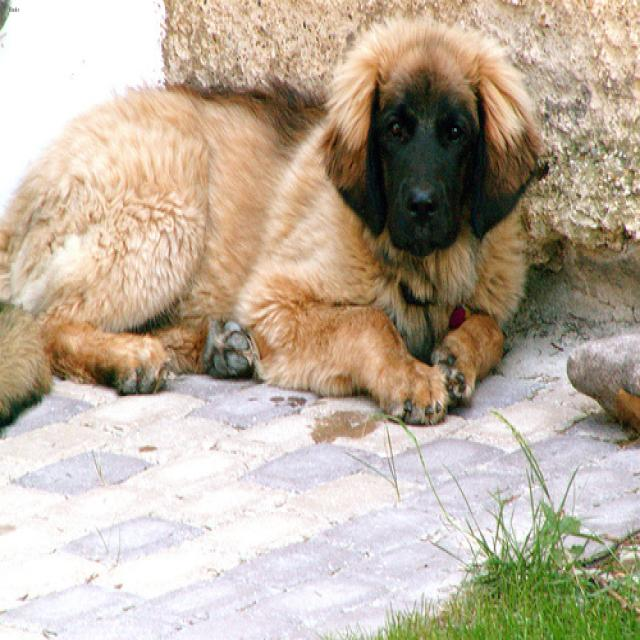dog-leonberger: (1, 2, 554, 454)
